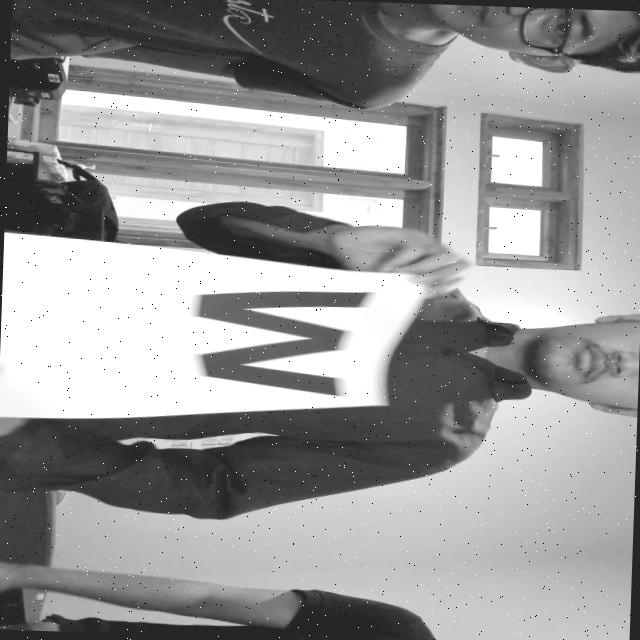w: (169, 273, 377, 412)
